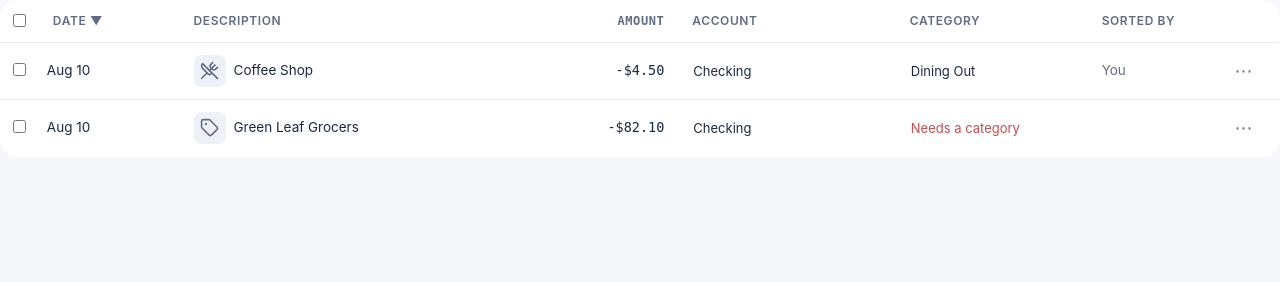
Test: TransactionsTable › shows the inline Delete confirm in place of the ⋯ when Delete… is chosen
Click the button "⋯" in the row of "Coffee Shop" at [1244, 71], box top-left (1230, 57), bottom-right (1258, 85)
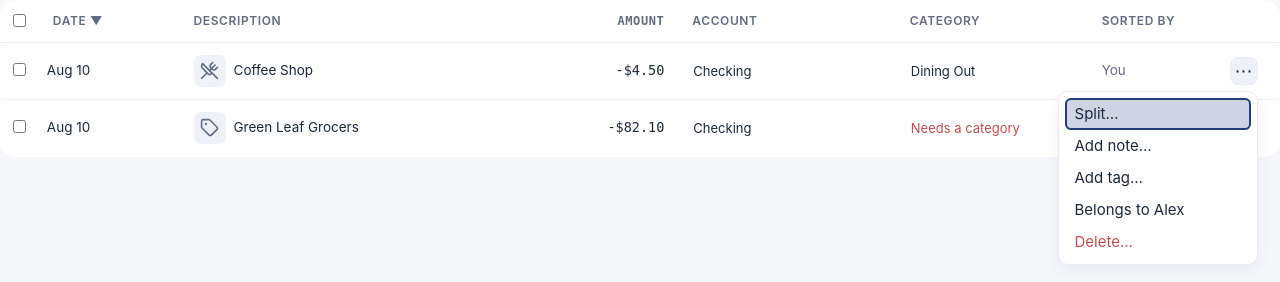
Click the menu item "Delete…" at [1158, 242], box top-left (1064, 226), bottom-right (1250, 258)
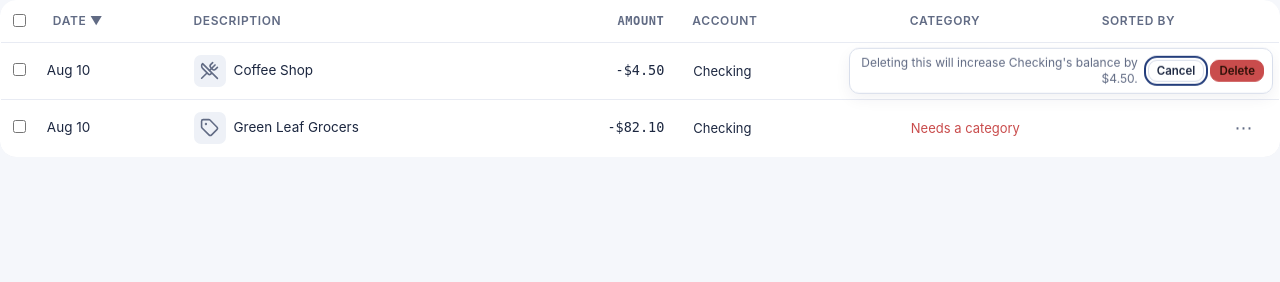
Check: the button "⋯" is shown, box top-left (1230, 114), bottom-right (1258, 142)
Check: the element with class "row-delete-confirm" is shown, box top-left (849, 48), bottom-right (1273, 94)
